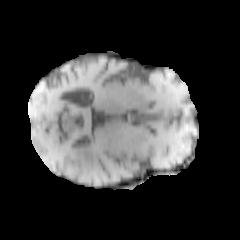glioma: (66, 140, 118, 179)
